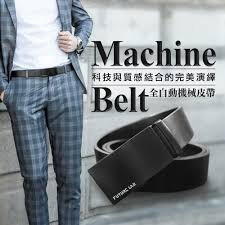F_belt: (5, 60, 82, 84)
